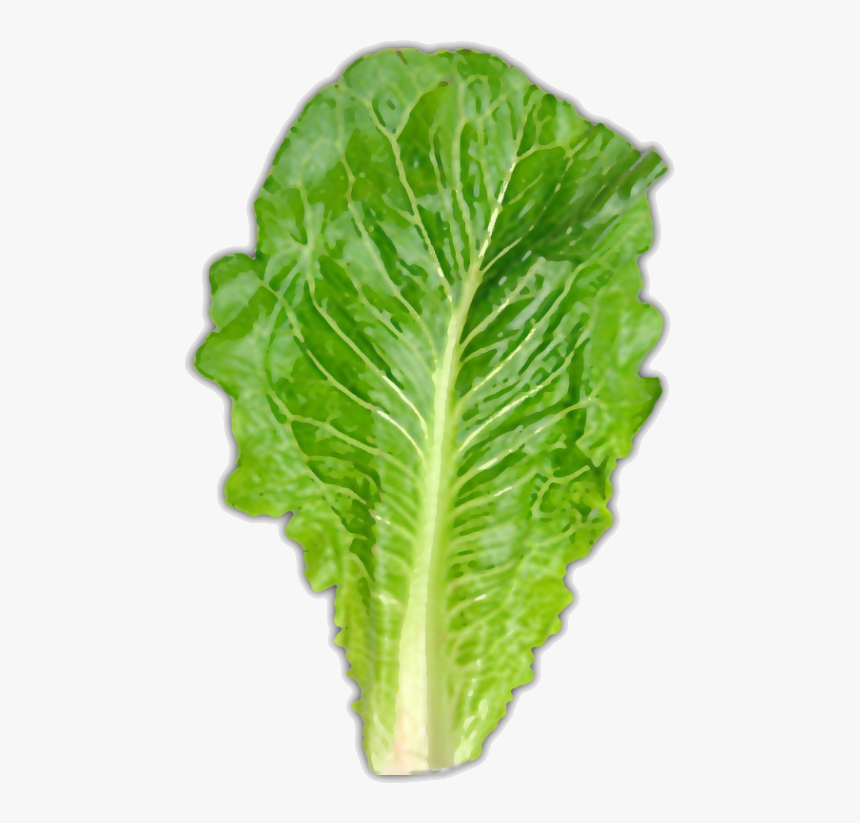lettuce: (186, 23, 705, 792)
